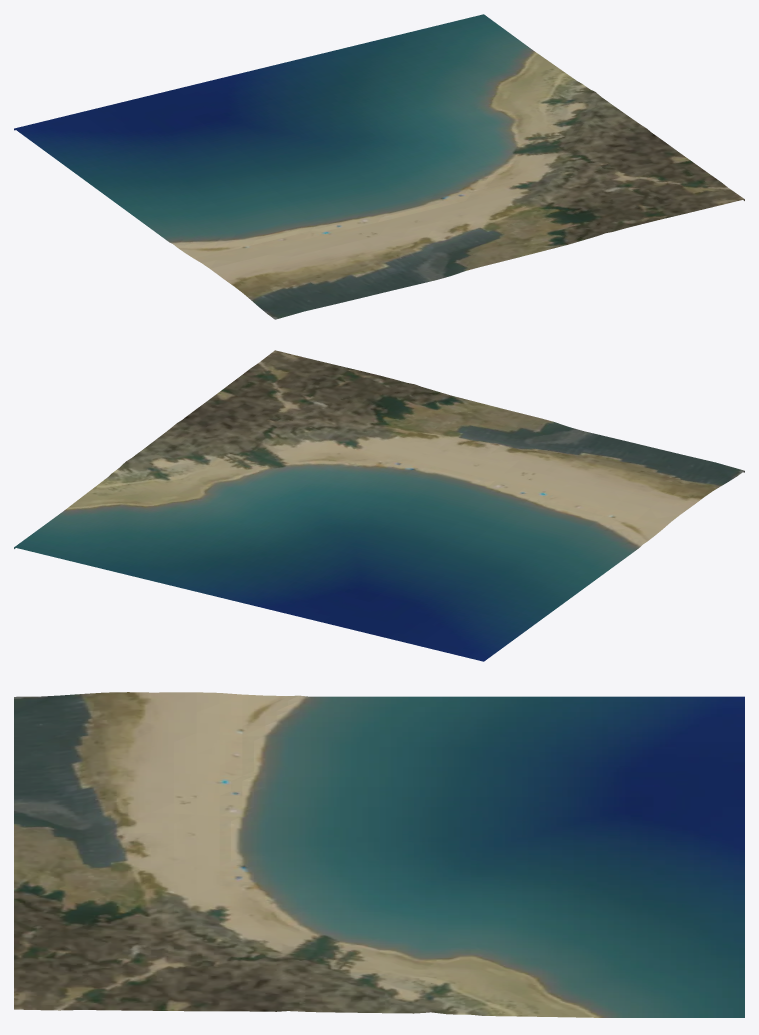
The picture shows the model from 3 angles, top to bottom: view 1: azimuth 30°, elevation 25°; view 2: azimuth 150°, elevation 25°; view 3: azimuth 270°, elevation 25°; orthographic projection. The views are drawn at different scales.
Bounding box in the file's own units: 250 × 4.22 × 241.
Materials: 1 (1 with a texture image).
